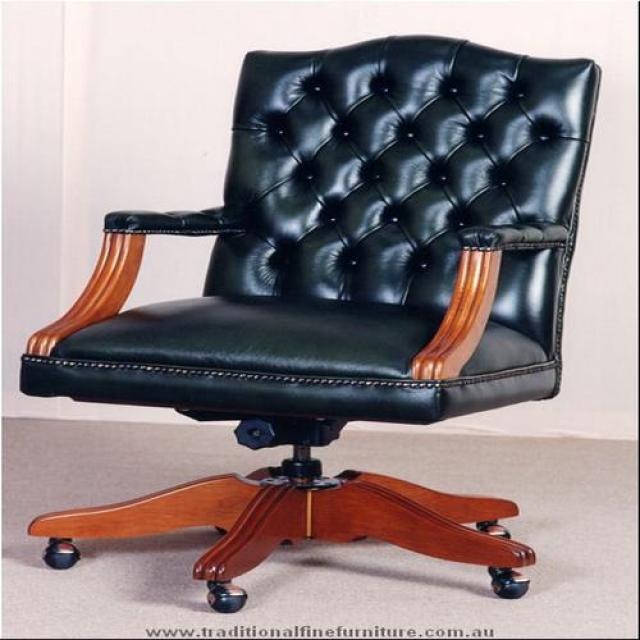swivelchair: (20, 36, 603, 616)
